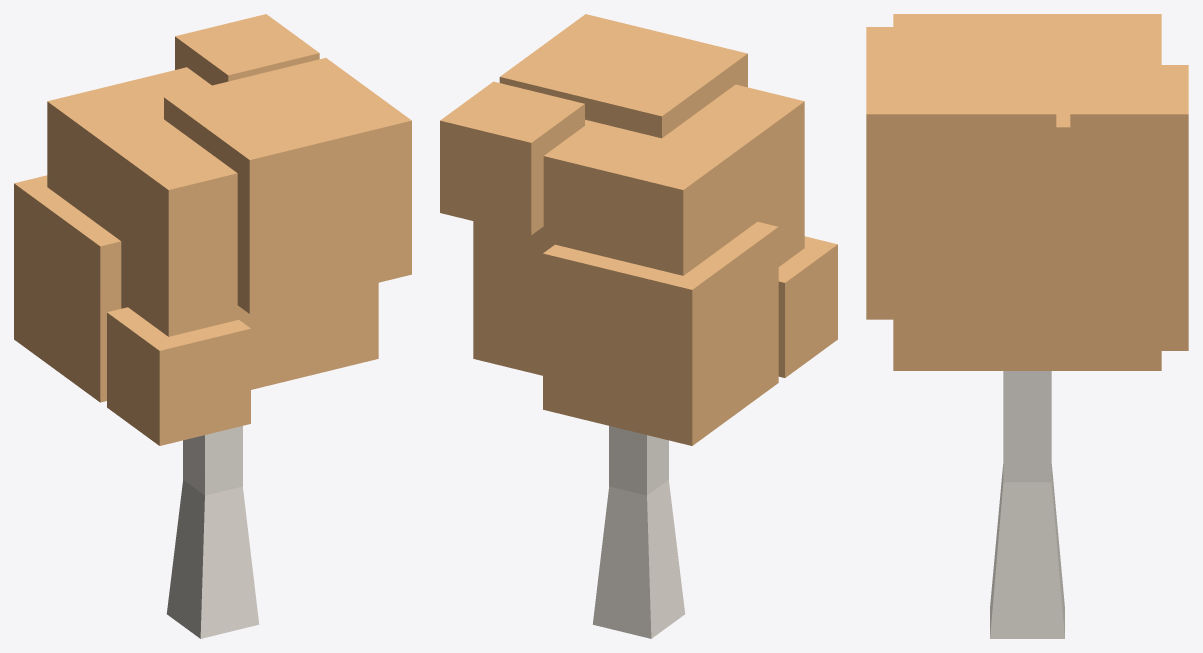
3 renders of one model, left to right at view 1: azimuth 30°, elevation 25°; view 2: azimuth 150°, elevation 25°; view 3: azimuth 270°, elevation 25°, orthographic. The views are drawn at different scales.
Visible parts, largest first — view 1: tree_blocks_fall; view 2: tree_blocks_fall; view 3: tree_blocks_fall.
Part boxes in pixels (<box>): tree_blocks_fall: <box>14,14,411,638</box>; tree_blocks_fall: <box>440,14,837,638</box>; tree_blocks_fall: <box>866,14,1188,638</box>.
Bounding box in the file's own units: 0.6 × 1.19 × 0.6.
